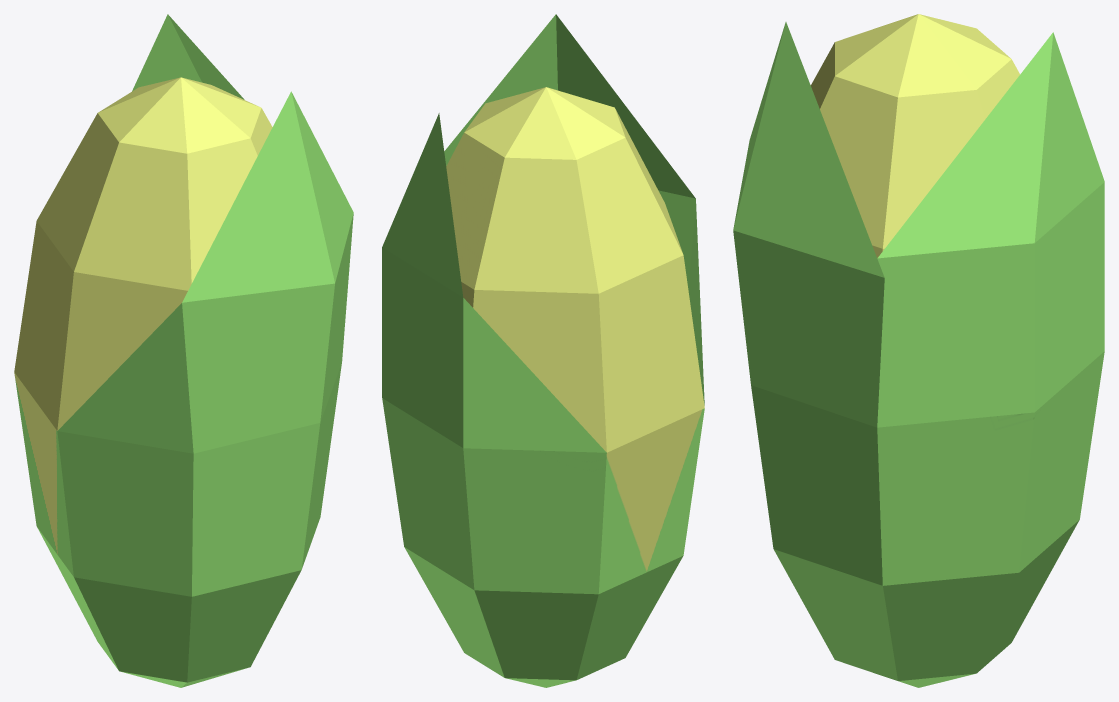
The model's file is maiz.fbx.
3 views of the same model, side by side, from view 1: azimuth 30°, elevation 25°; view 2: azimuth 150°, elevation 25°; view 3: azimuth 270°, elevation 25° (orthographic). The views are drawn at different scales.
Parts seen in each view (by area): view 1: Sphere; view 2: Sphere; view 3: Sphere.
Boxes of the visible parts, box(x1,y1,x2,y2) form: Sphere: box(14, 14, 353, 687); Sphere: box(382, 14, 704, 687); Sphere: box(733, 14, 1104, 687).
Size of the model in its own units: 103 by 205 by 99.71.
